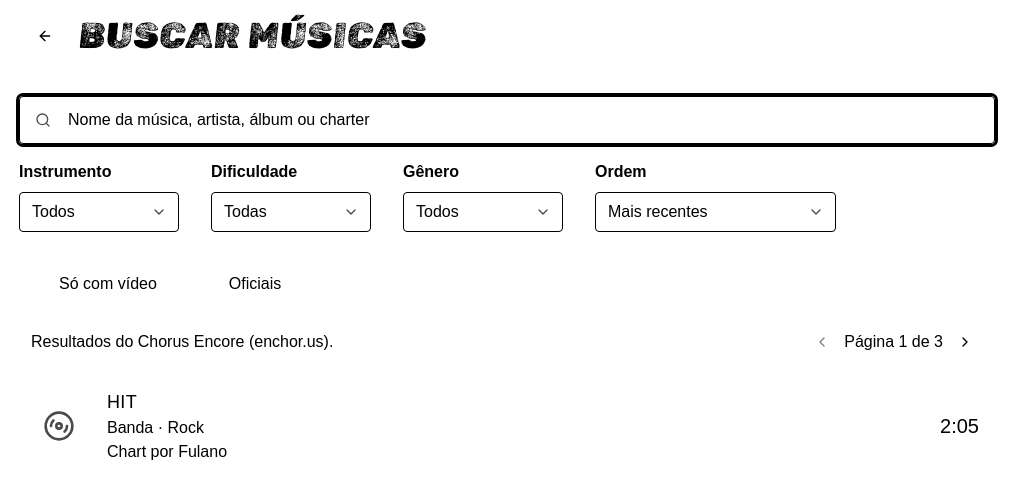
Test case: TelaDeBuscaDeMusicas › pagina os resultados
Expected: the text "Página 1 de 3" is shown, [844,330,943,354]
Click the button named "Próxima página" at (965, 342), box [947,324,983,360]
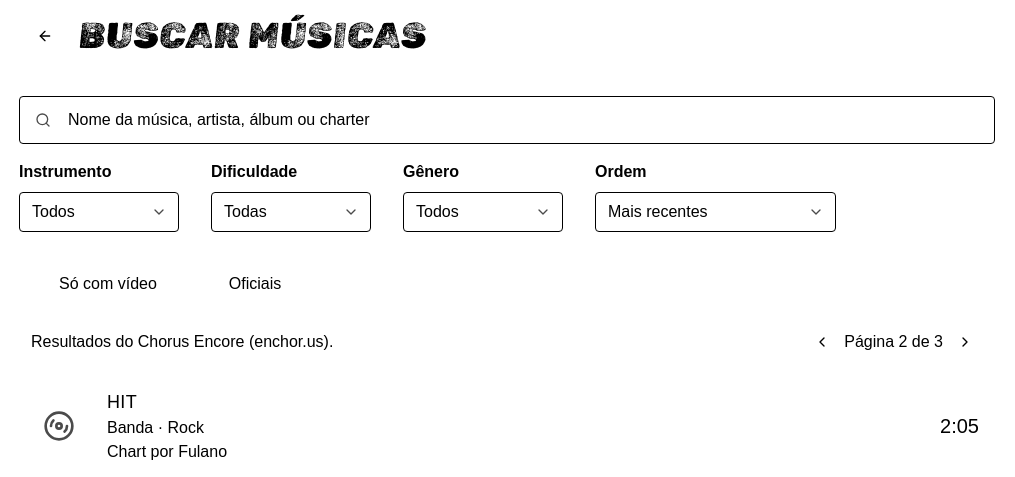
Result: the text "Página 2 de 3" is shown at [844,330,943,354]
